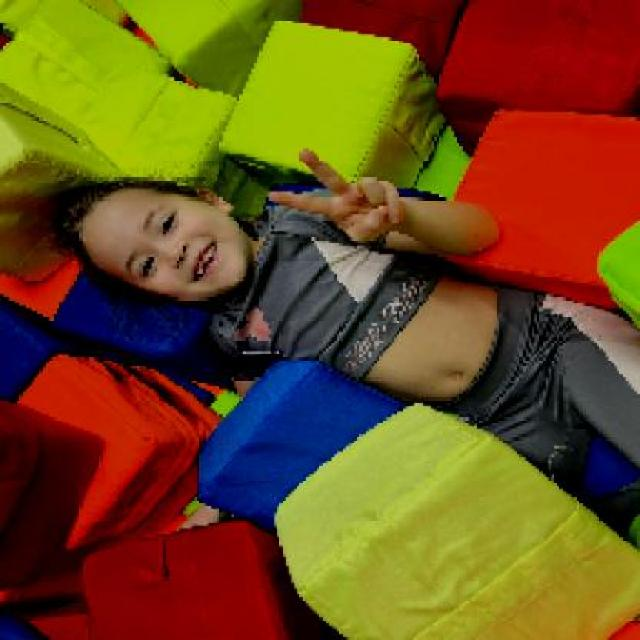child: (54, 147, 640, 544)
